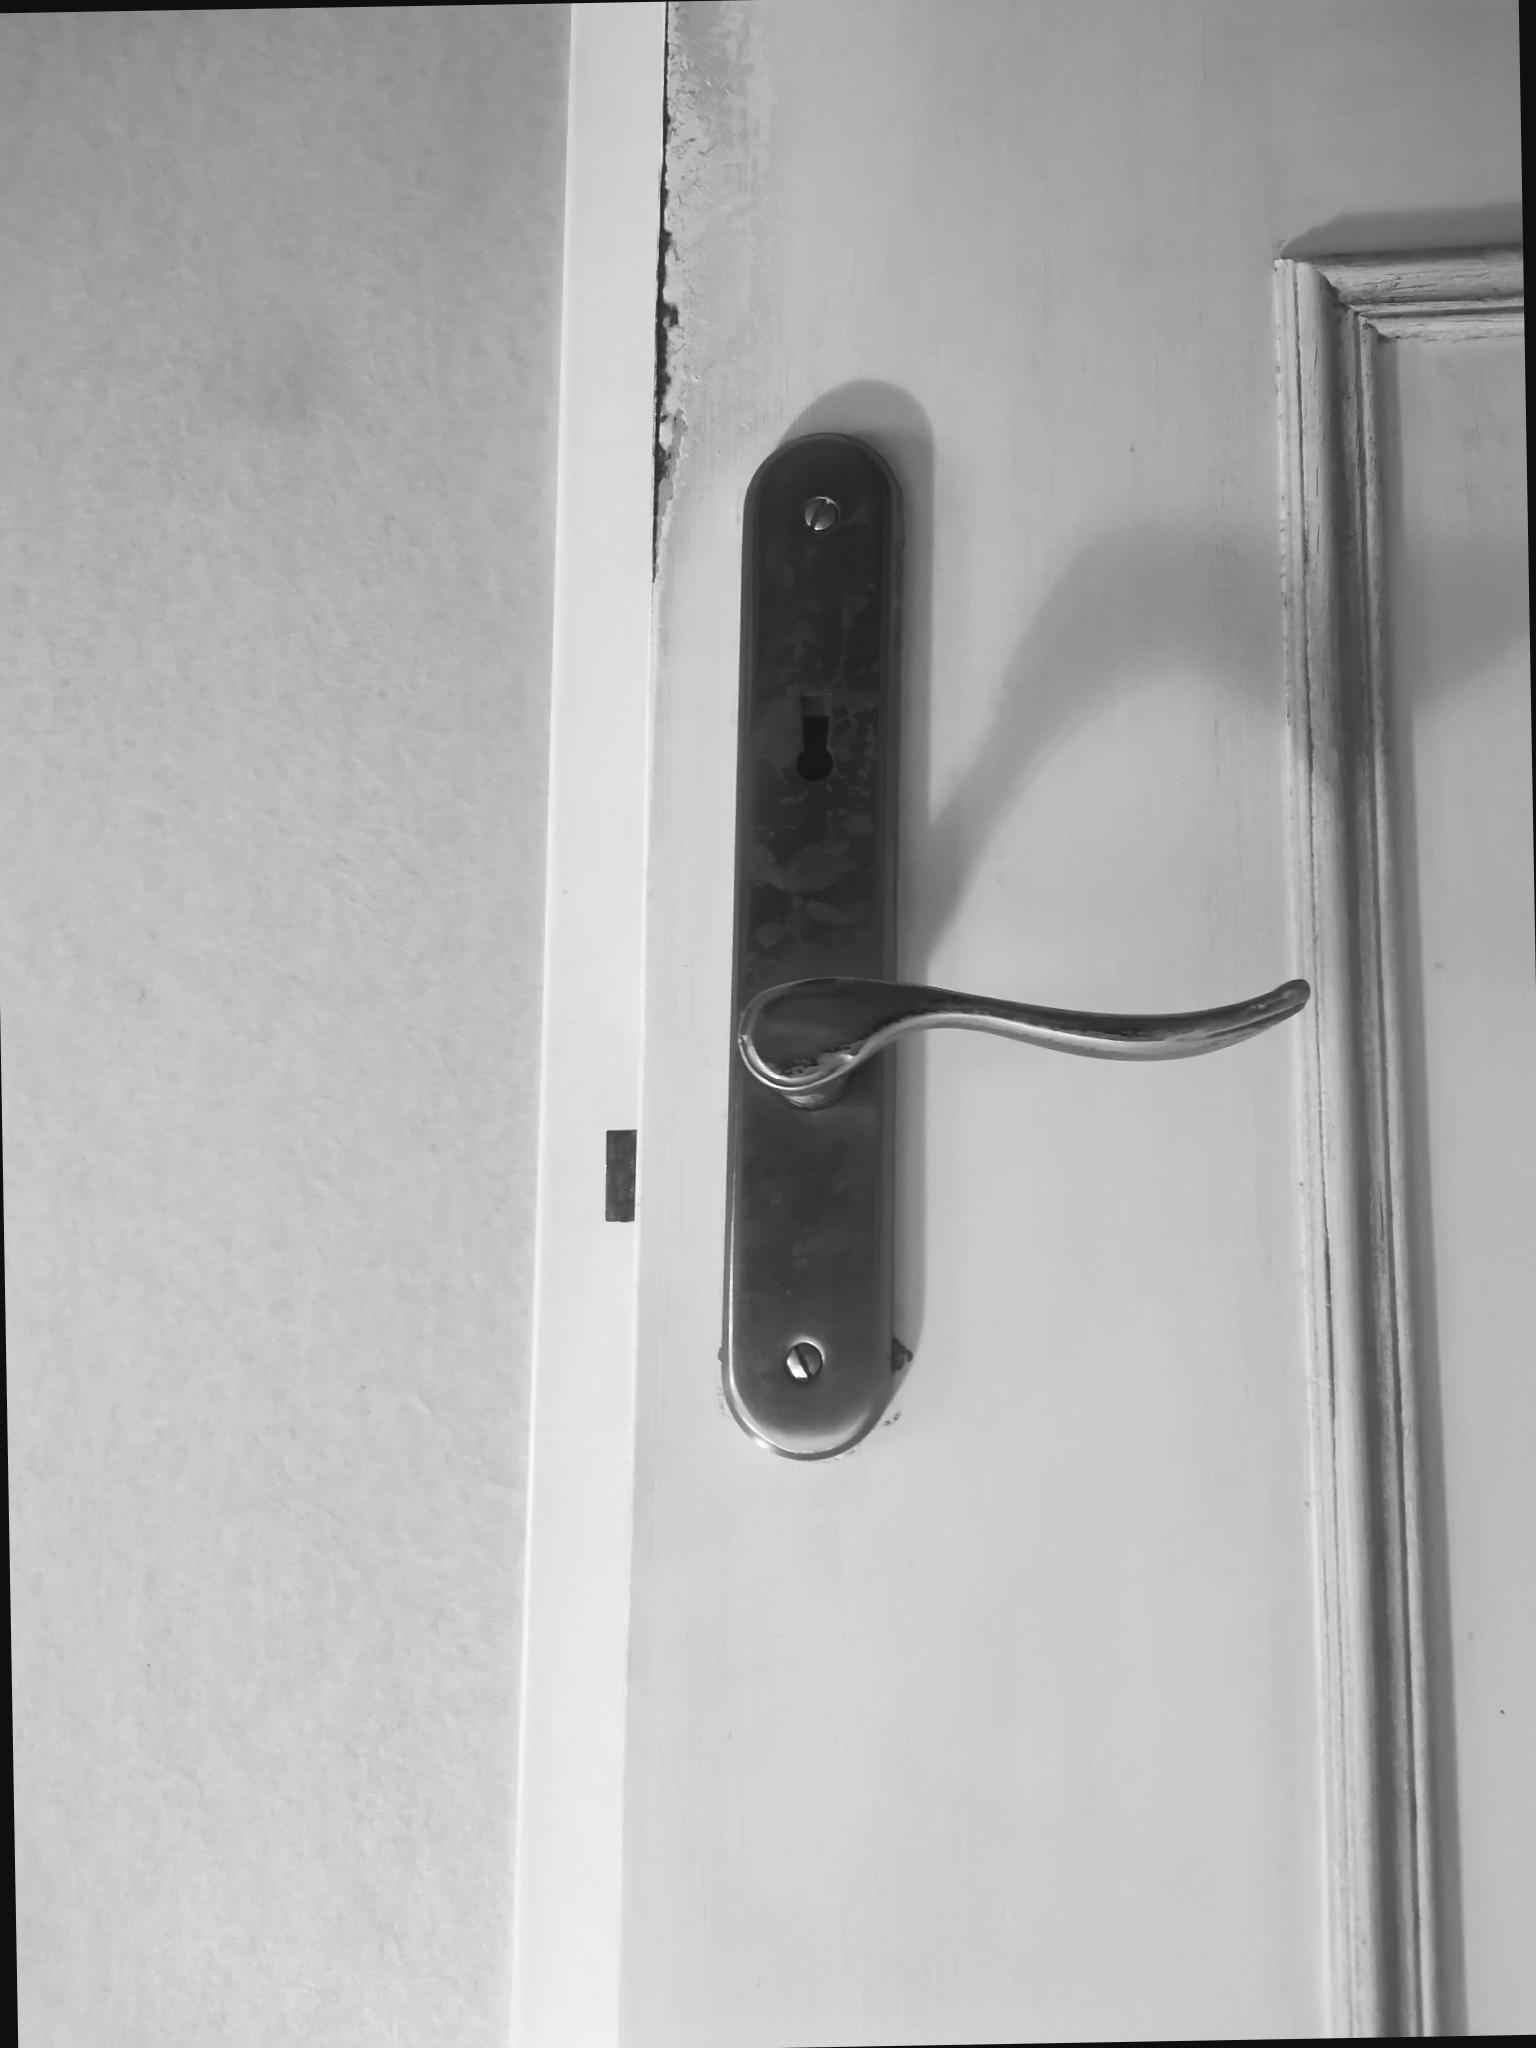slotted: (781, 1338, 828, 1384), (800, 493, 841, 534)
